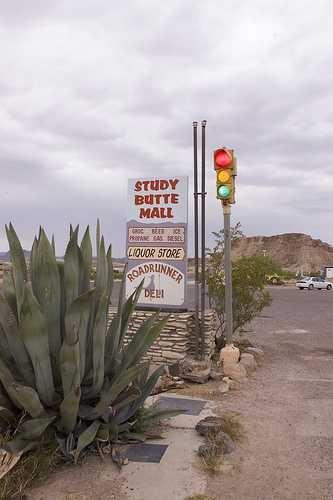green: (215, 185, 233, 202)
red: (212, 147, 235, 169)
